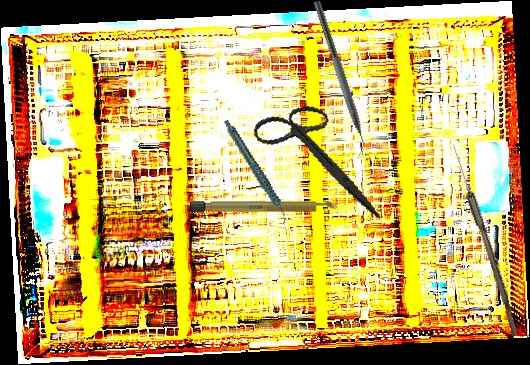Chopper: (303, 0, 373, 160)
Handpiece: (223, 111, 289, 233)
Iris Scissors: (241, 95, 400, 220)
Scalpel Handle: (190, 201, 337, 213)
Surgical Spoon: (448, 143, 523, 337)
